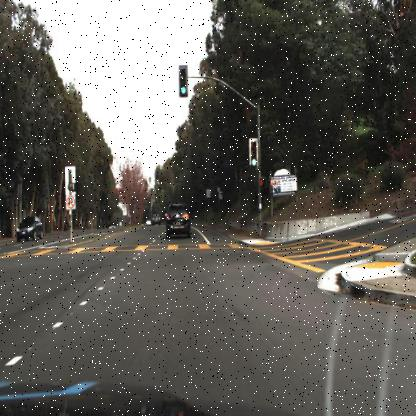car: (161, 197, 193, 240), (15, 215, 44, 244), (148, 210, 162, 230), (150, 211, 160, 226)
trafficLight-Green: (247, 135, 261, 172), (177, 64, 189, 100), (179, 84, 187, 96), (251, 154, 256, 172)
trafficLight-Red: (258, 177, 268, 189)
